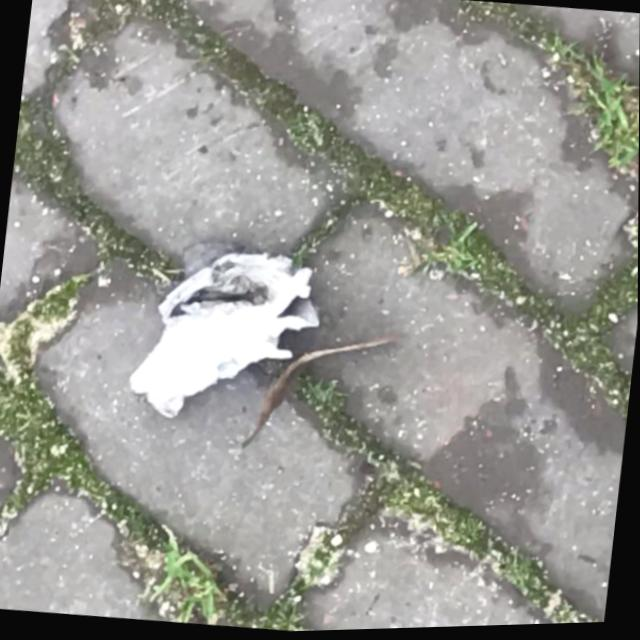Paper: (124, 239, 329, 436)
